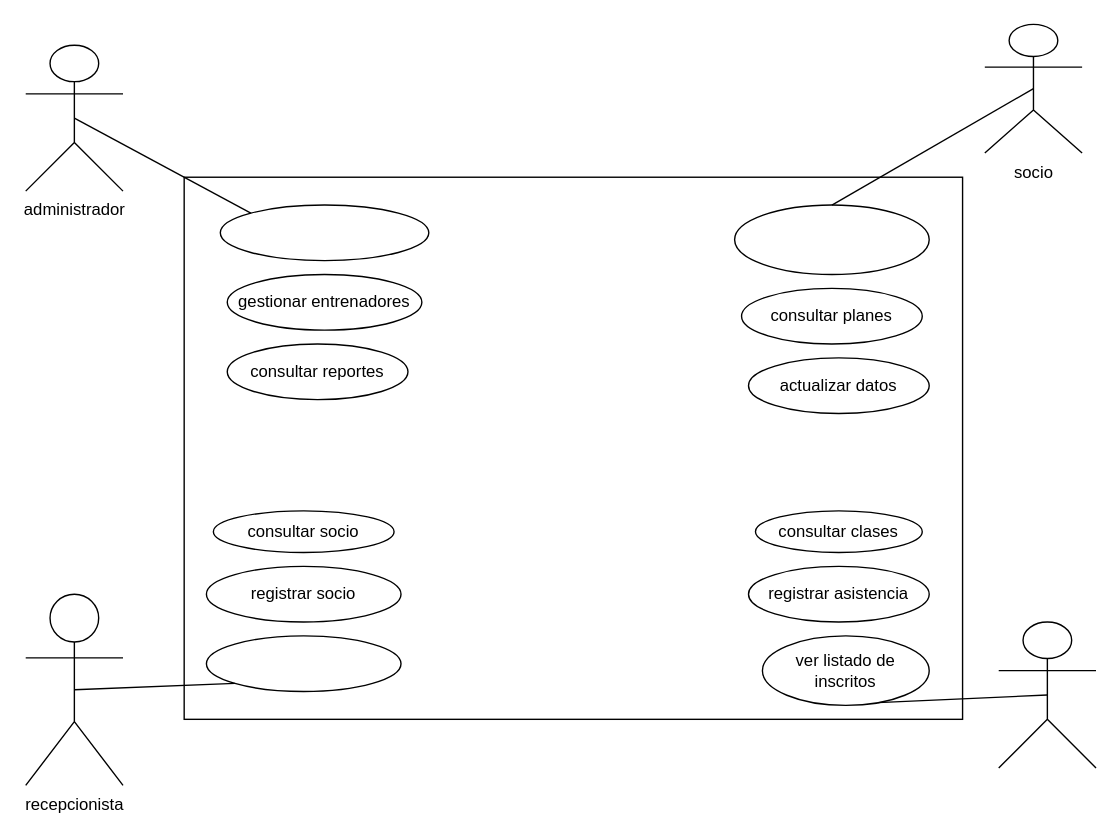
Image size: 1120x838. Some labels were removed from this diagram. The box of each missing label's shape, as (x1, y1, x2, y2) in pixels:
entrenador: (997, 621, 1096, 768)
gestionar planes: (219, 204, 429, 261)
inscribirse a las clases: (733, 204, 929, 275)
registrar membresia: (205, 635, 401, 692)
sistema de gimnasio: (183, 176, 963, 719)
